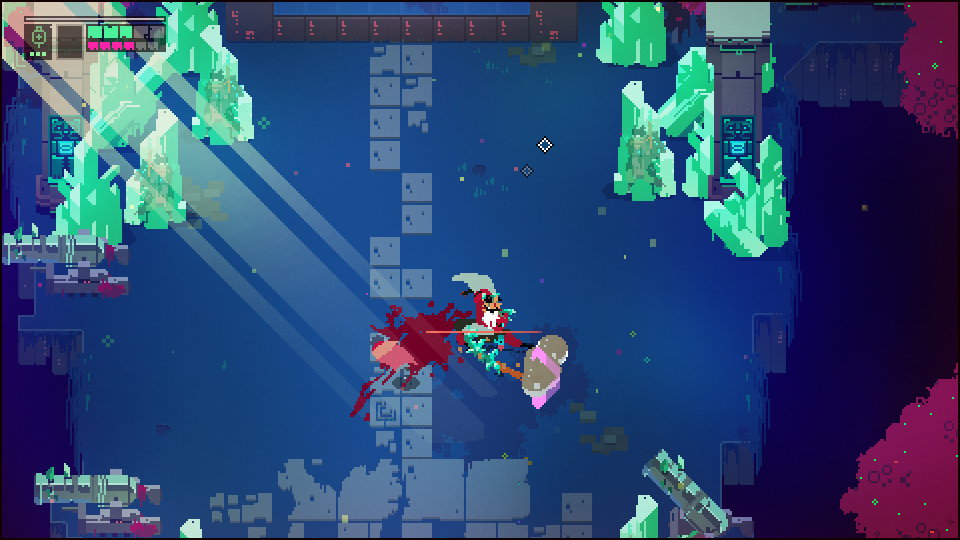hanged_man: (453, 271, 553, 394)
player: (368, 336, 420, 370)
